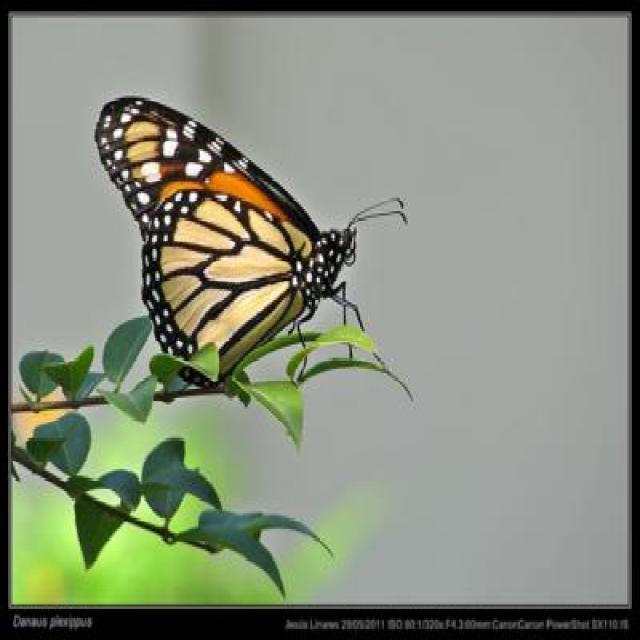antennae: (346, 184, 410, 246)
body: (295, 227, 356, 298)
insect: (94, 86, 410, 390)
legs: (292, 289, 381, 381)
wings: (98, 93, 320, 381)
